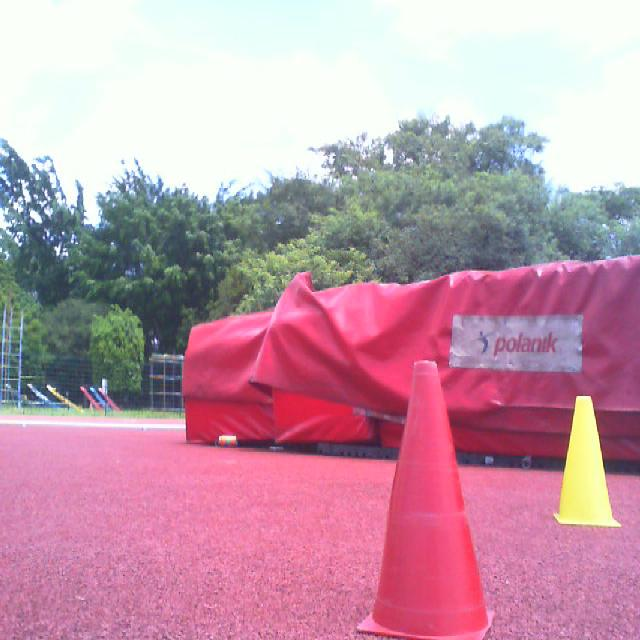cone: (356, 360, 496, 640), (554, 396, 620, 528)
